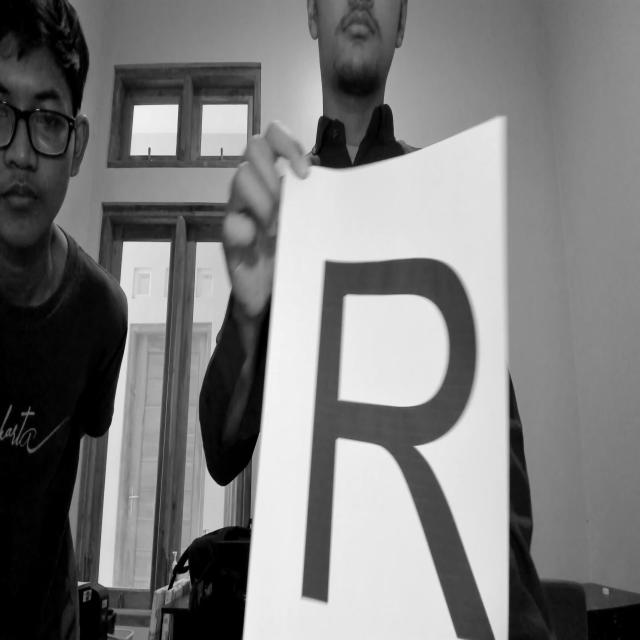r: (298, 237, 510, 640)
